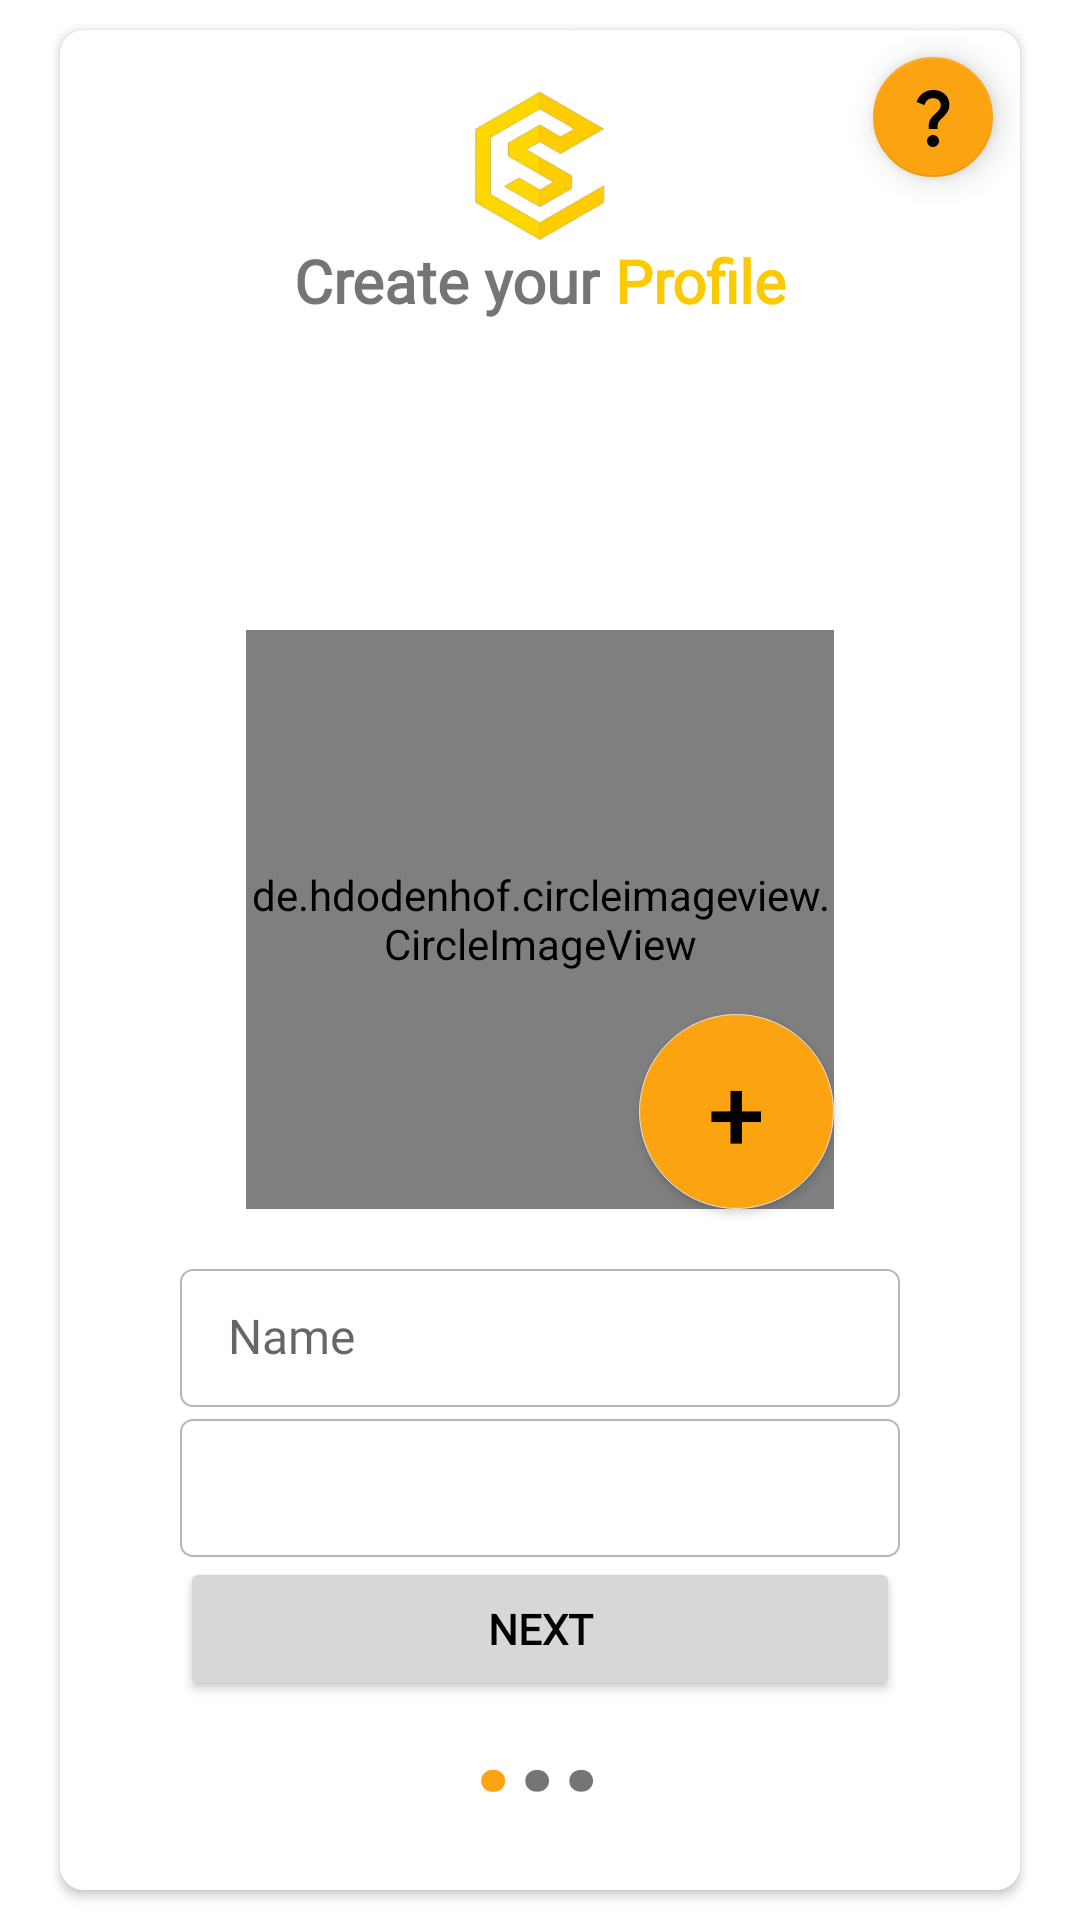

Icons on this 1080×1920 Android screen, each with the point to tap as (x,y):
guide: (934,117)
